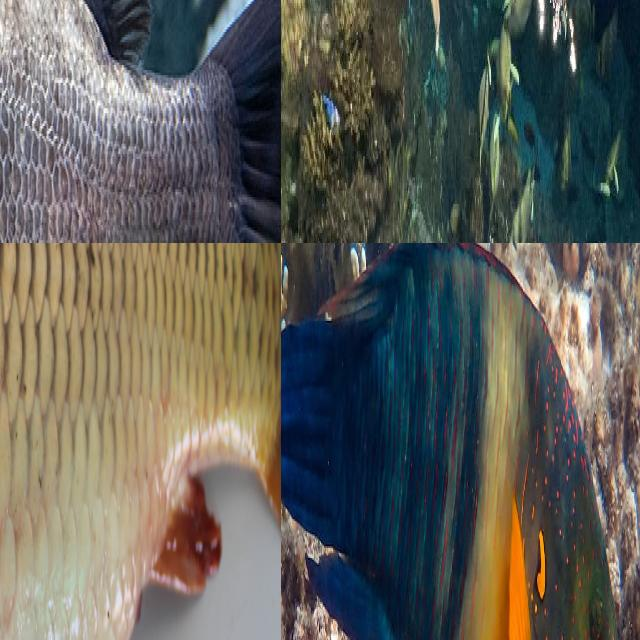fish: (0, 243, 281, 640), (281, 243, 534, 640), (0, 0, 281, 243), (396, 0, 445, 45)
